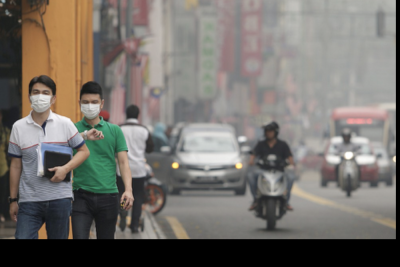with_mask: (29, 87, 51, 114), (78, 97, 100, 121)
